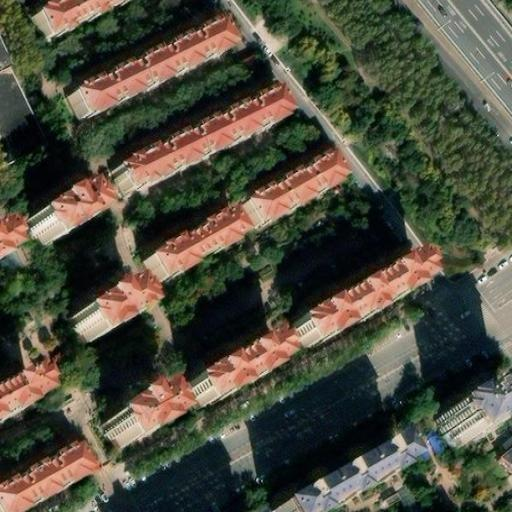building: (109, 88, 285, 200), (65, 21, 233, 128), (281, 259, 419, 358), (275, 433, 414, 512), (236, 152, 343, 236), (141, 208, 247, 289), (180, 341, 276, 415), (0, 445, 91, 512), (437, 377, 512, 452), (101, 389, 173, 453), (72, 286, 140, 344), (27, 191, 95, 249), (0, 362, 54, 421), (495, 441, 512, 478)
